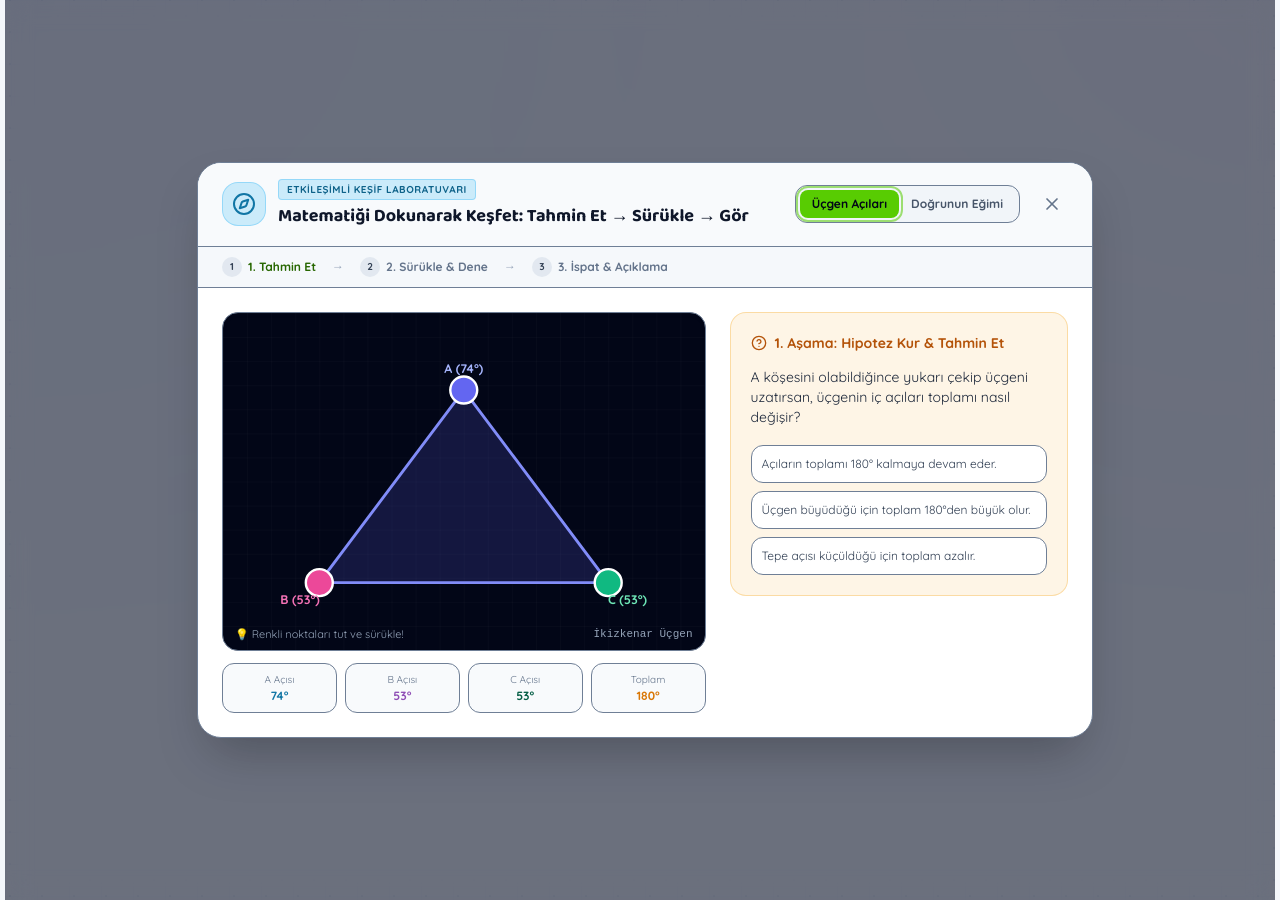
InteractiveMathLabModal › mod değiştirdiğinde eğim moduna geçer
The width and height of the screenshot is (1280, 900).
Click the button "Doğrunun Eğimi".
click(957, 204)  # box [899, 190, 1015, 218]
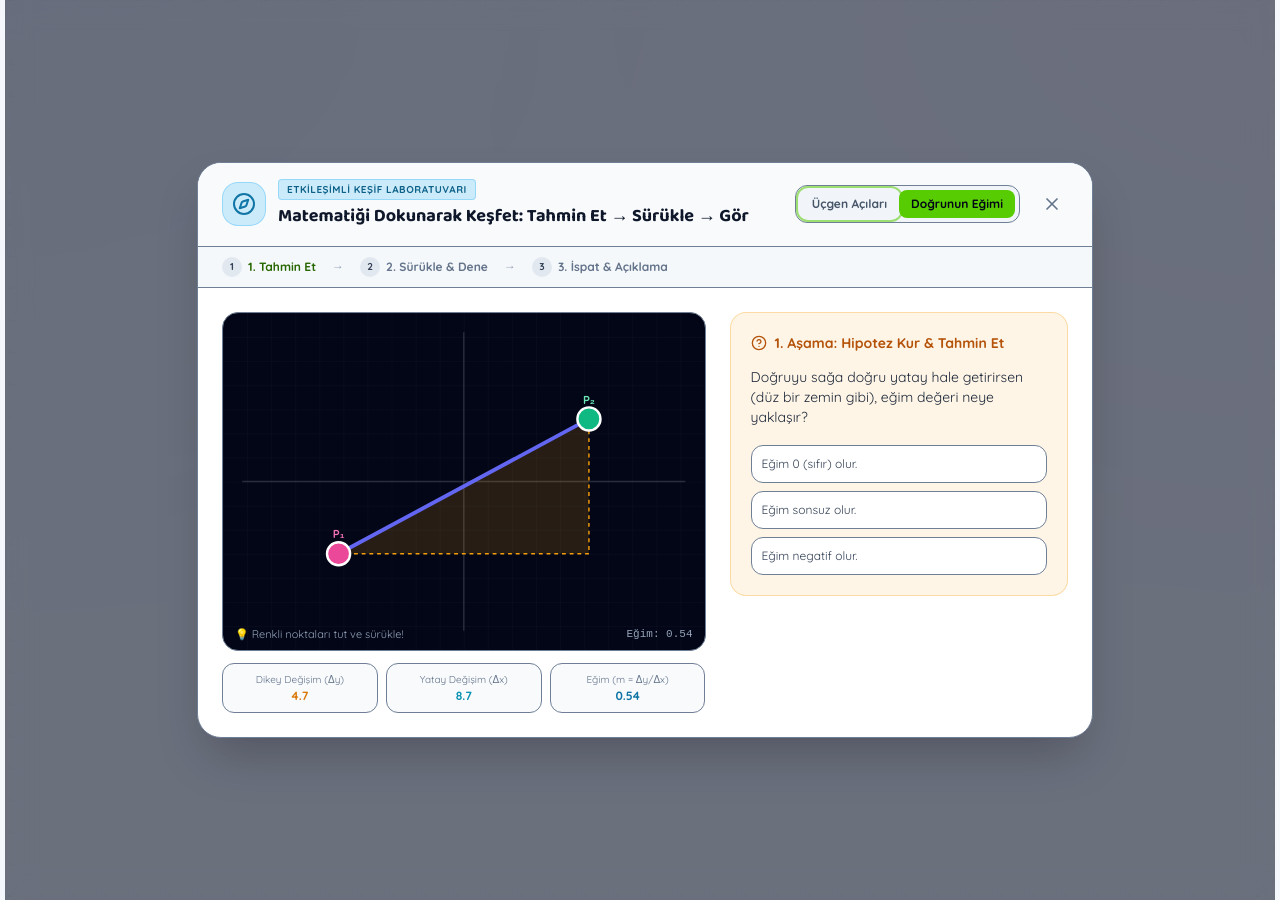
Check: the text "Dikey Değişim (Δy)" is shown, box [256, 673, 344, 686]
